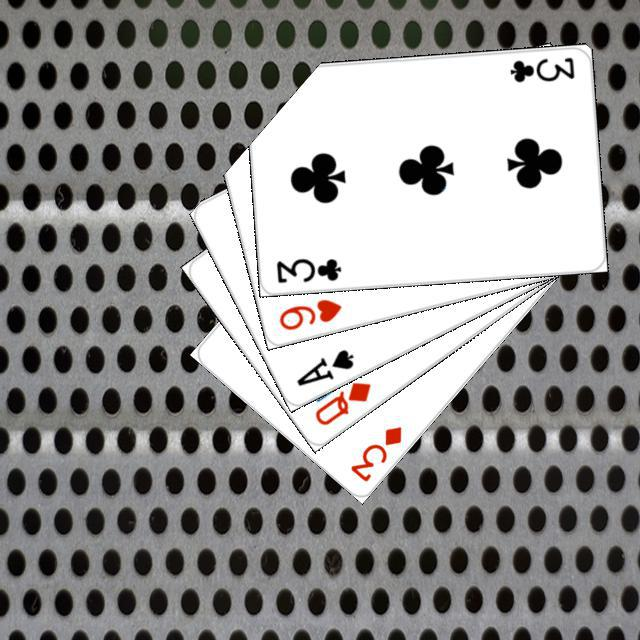3c: (271, 253, 343, 285), (504, 52, 576, 84)
3d: (345, 421, 404, 484)
9h: (274, 294, 344, 332)
As: (291, 344, 356, 388)
Qd: (309, 376, 373, 428)
